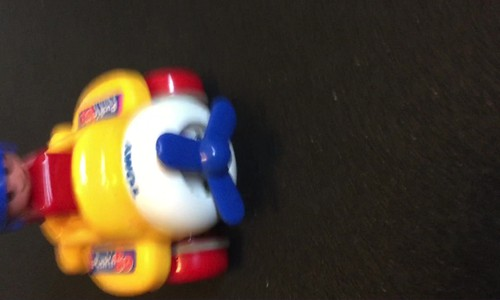toy: (7, 63, 246, 285)
